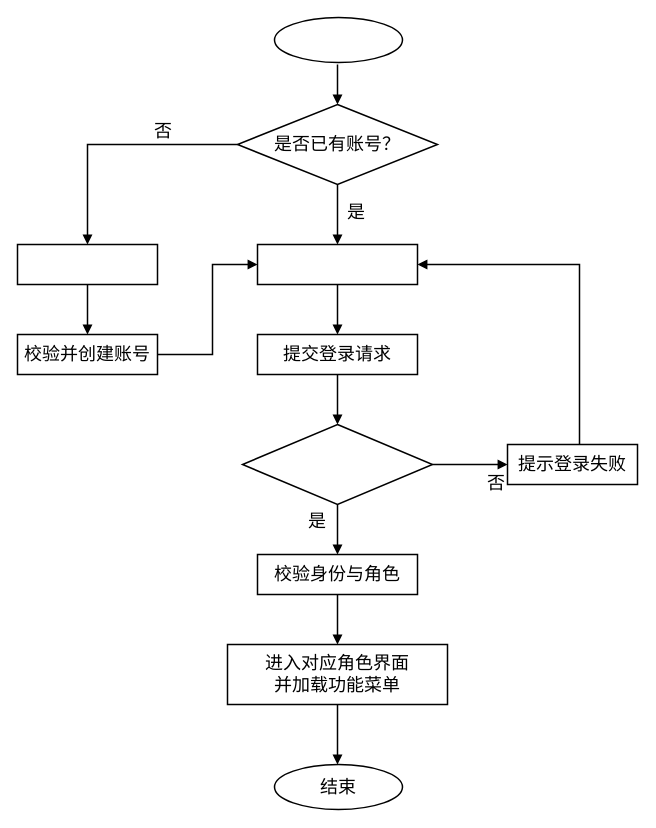
Some shapes in this 656 by 828 pixel diagram are drawn without their labels. The shapes that lost their labels are listed below. From the top down, each one's centre as x and y in pixels, then its label:
At point (338, 39): "开始".
At point (87, 264): "填写注册信息".
At point (337, 264): "输入用户名和密码".
At point (337, 464): "登录是否成功？".
